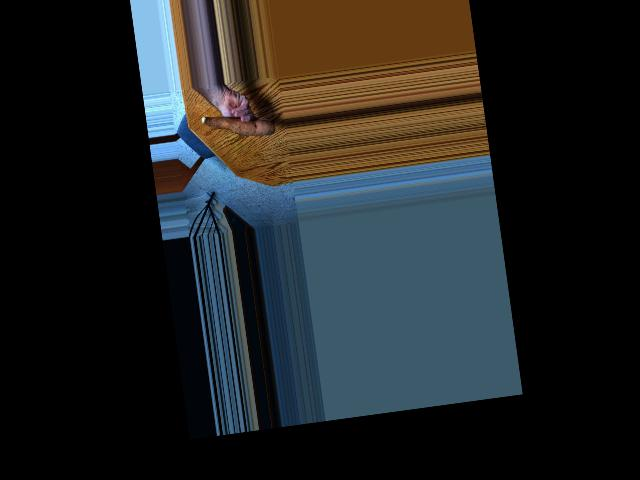sweet_potato: (199, 104, 275, 146)
